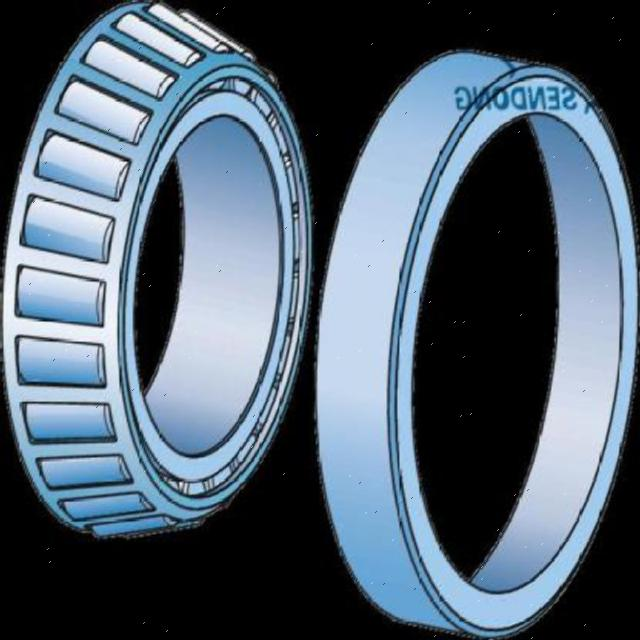Bearing: (0, 0, 314, 544)
